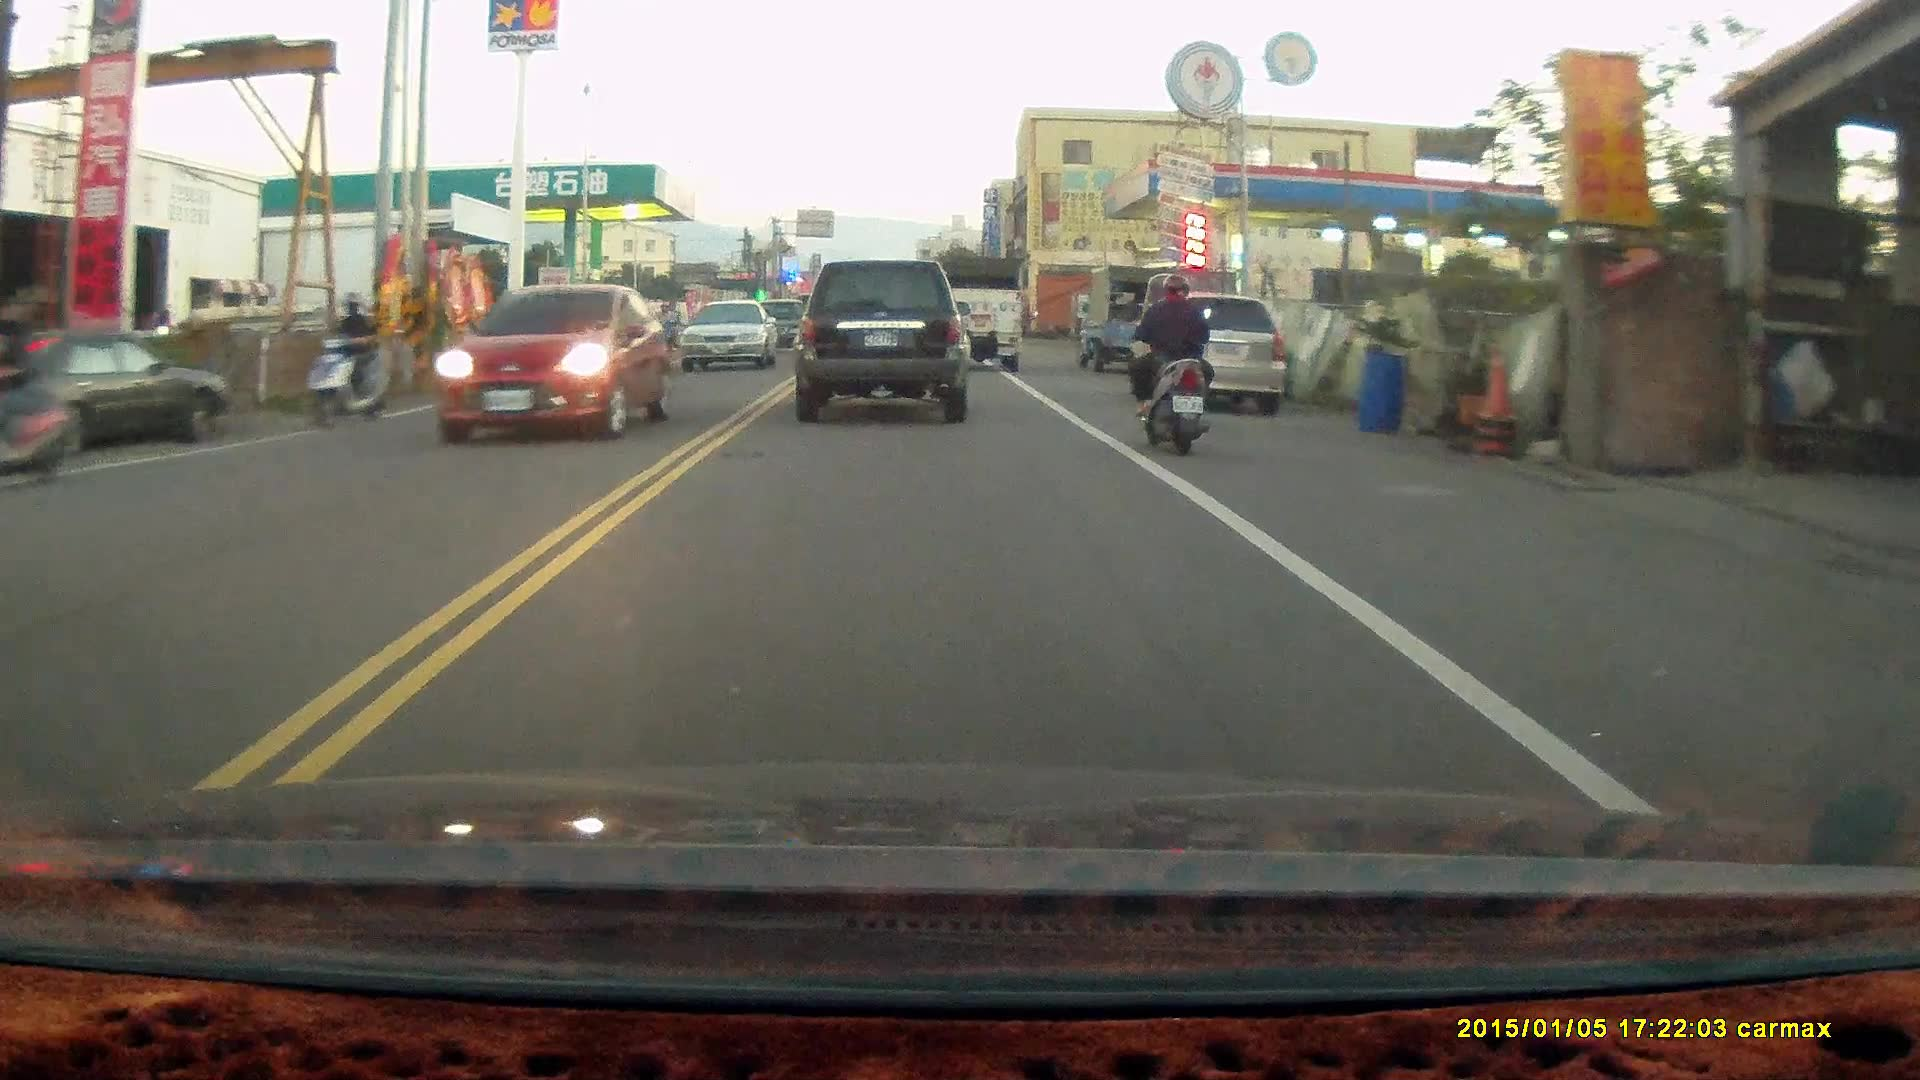rider: (1121, 268, 1218, 452), (0, 301, 84, 487), (296, 293, 395, 435)
vehicle: (435, 287, 667, 445), (2, 329, 243, 462), (792, 257, 968, 423), (1131, 294, 1293, 422), (455, 283, 621, 408), (930, 253, 1020, 372), (682, 296, 780, 369)
